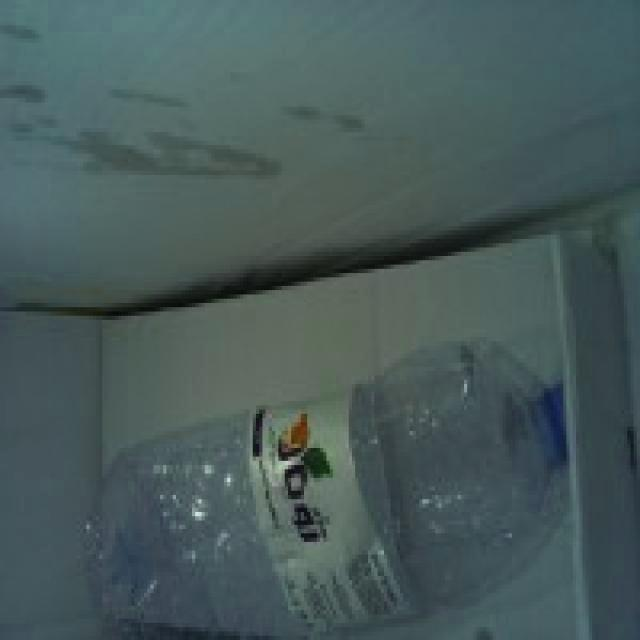bottle: (87, 344, 570, 634)
